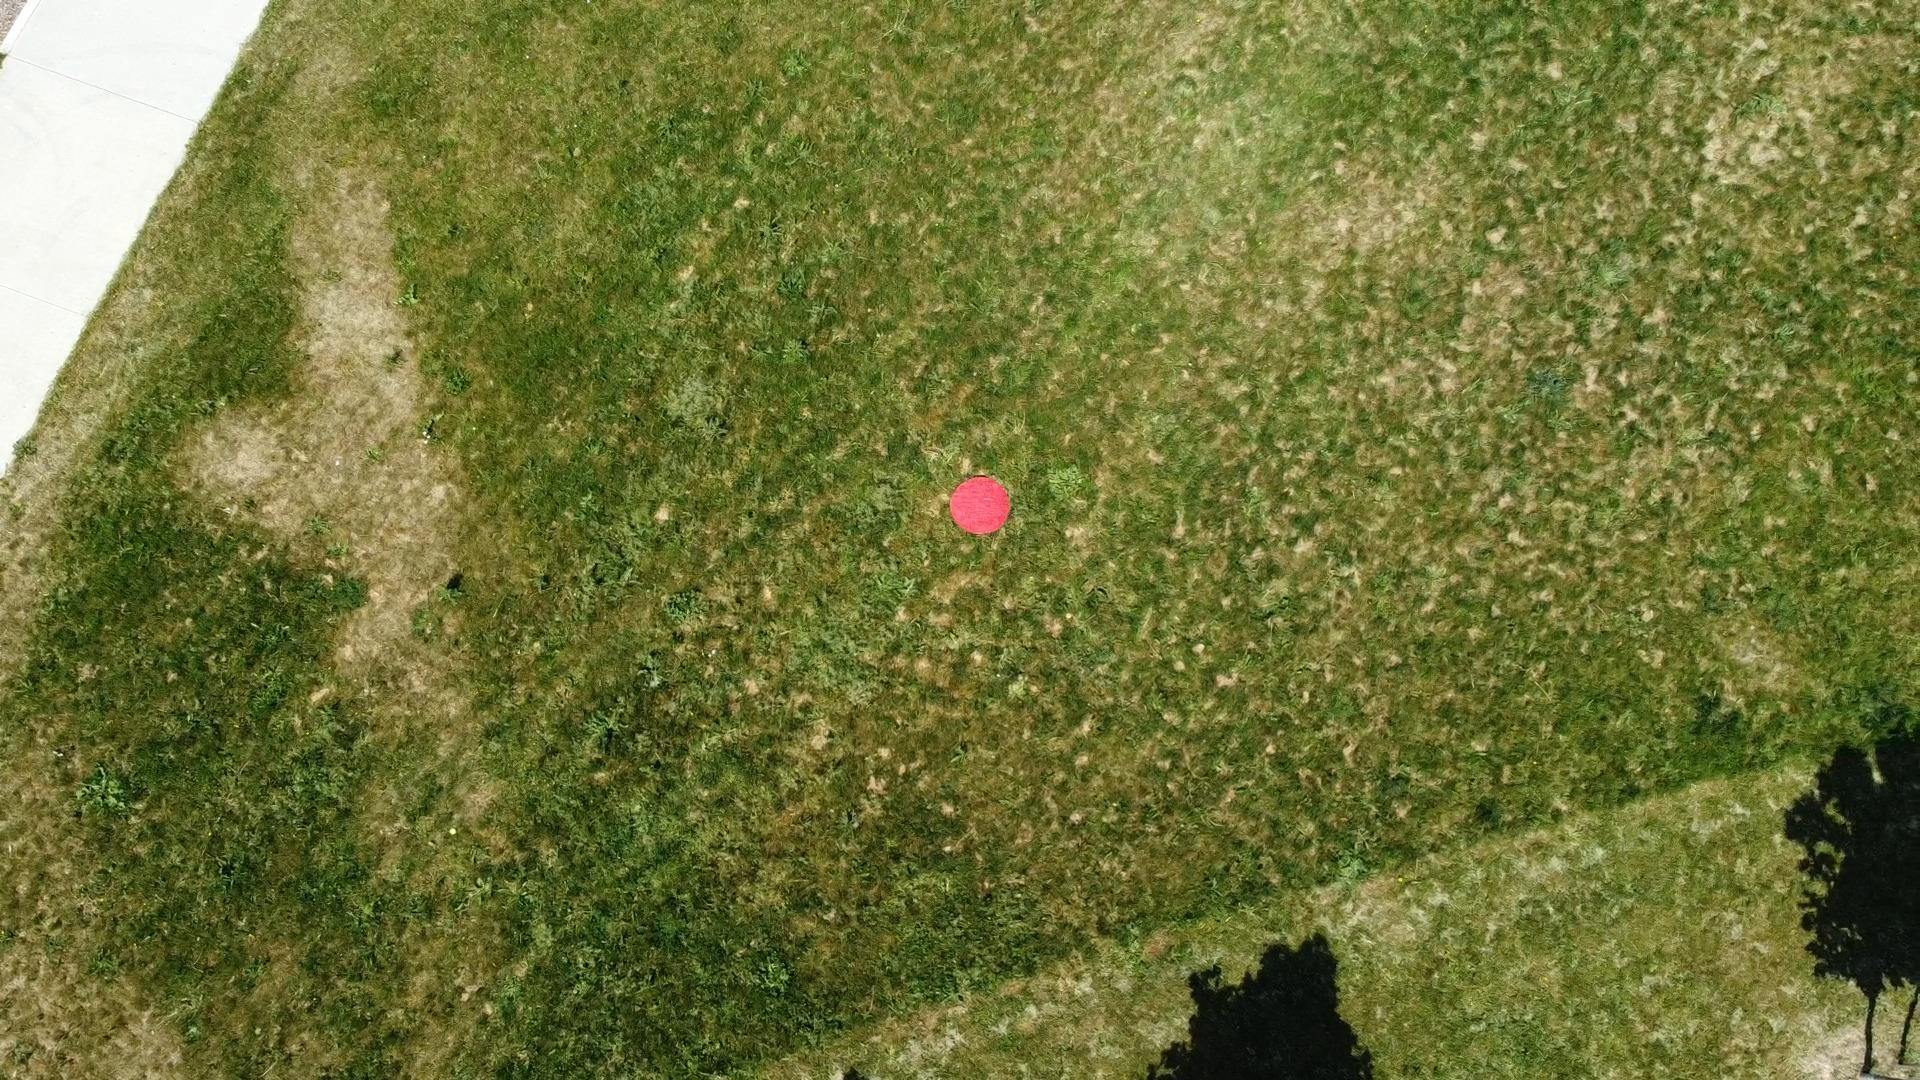Red: (944, 471, 1015, 539)
